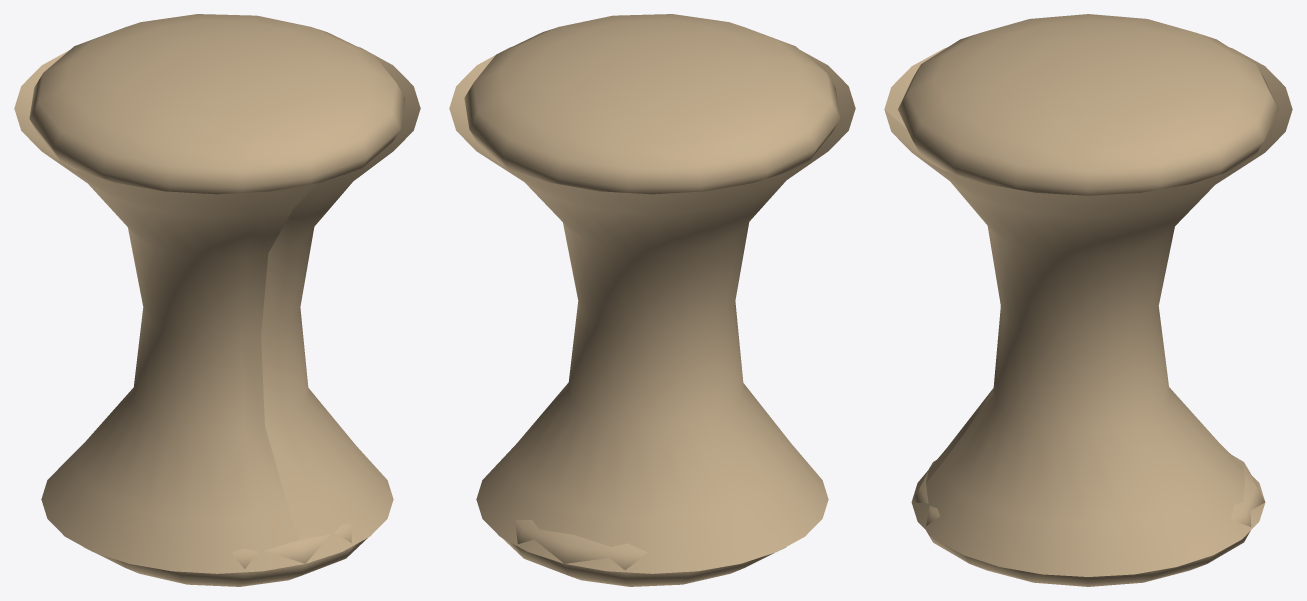
Rendered from right_toe_2_distal.glb.
The picture shows the model from 3 angles, left to right: view 1: azimuth 30°, elevation 25°; view 2: azimuth 150°, elevation 25°; view 3: azimuth 270°, elevation 25°; orthographic projection.
Visible parts, largest first — view 1: right_toe_2_distal:diaphysis, right_toe_2_distal:proximal-envelope, right_toe_2_distal:distal-envelope; view 2: right_toe_2_distal:diaphysis, right_toe_2_distal:proximal-envelope, right_toe_2_distal:distal-envelope; view 3: right_toe_2_distal:diaphysis, right_toe_2_distal:proximal-envelope, right_toe_2_distal:distal-envelope.
Boxes of the visible parts, x1=… form: right_toe_2_distal:diaphysis: x1=14, y1=47, x2=420, y2=573; right_toe_2_distal:proximal-envelope: x1=29, y1=14, x2=405, y2=194; right_toe_2_distal:distal-envelope: x1=84, y1=523, x2=367, y2=586; right_toe_2_distal:diaphysis: x1=449, y1=47, x2=855, y2=573; right_toe_2_distal:proximal-envelope: x1=464, y1=14, x2=840, y2=194; right_toe_2_distal:distal-envelope: x1=502, y1=520, x2=785, y2=586; right_toe_2_distal:diaphysis: x1=884, y1=47, x2=1292, y2=576; right_toe_2_distal:proximal-envelope: x1=898, y1=14, x2=1278, y2=195; right_toe_2_distal:distal-envelope: x1=912, y1=455, x2=1264, y2=586.
Bounding box in the file's own units: 0.0864 × 0.1152 × 0.0864.
